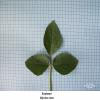Soyabean leaf: (43, 19, 62, 55), (52, 53, 79, 75), (24, 54, 50, 76)
